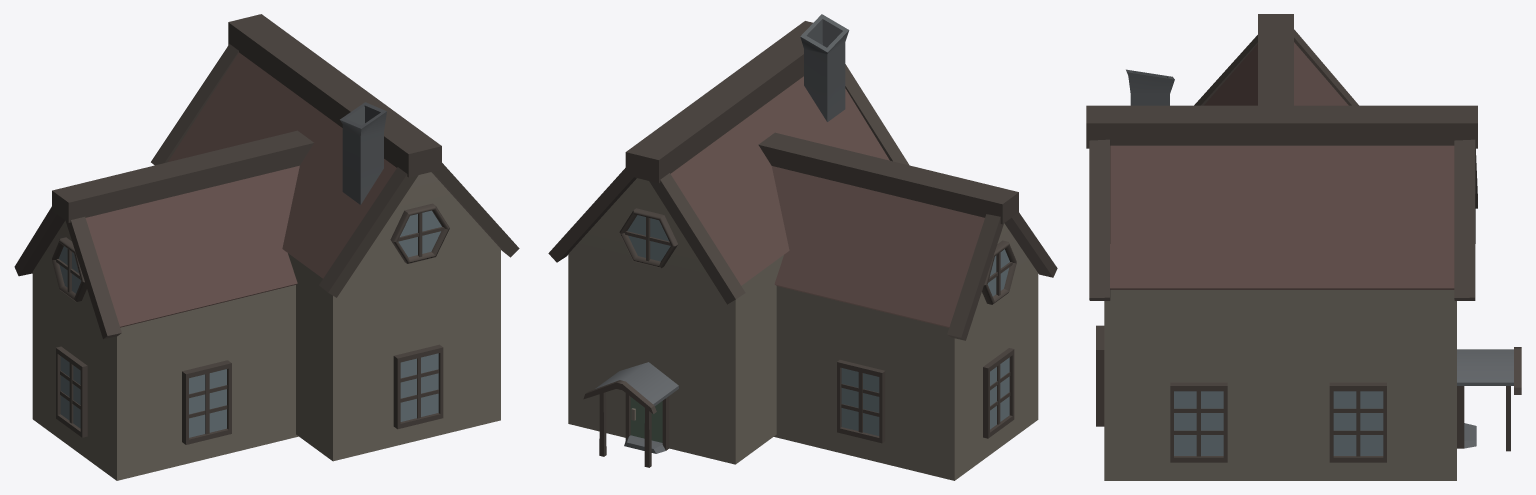
The model's file is Assembled_Classic_House.fbx.
3 views of the same model, side by side, from view 1: azimuth 30°, elevation 25°; view 2: azimuth 150°, elevation 25°; view 3: azimuth 270°, elevation 25° (orthographic). The views are drawn at different scales.
Parts seen in each view (by area): view 1: Classic_House; view 2: Classic_House; view 3: Classic_House.
Boxes of the visible parts, box(x1,y1,x2,y2) form: Classic_House: box(14, 14, 519, 480); Classic_House: box(548, 14, 1057, 480); Classic_House: box(1086, 14, 1521, 480).
Size of the model in its own units: 13.16 by 11.09 by 12.24.
